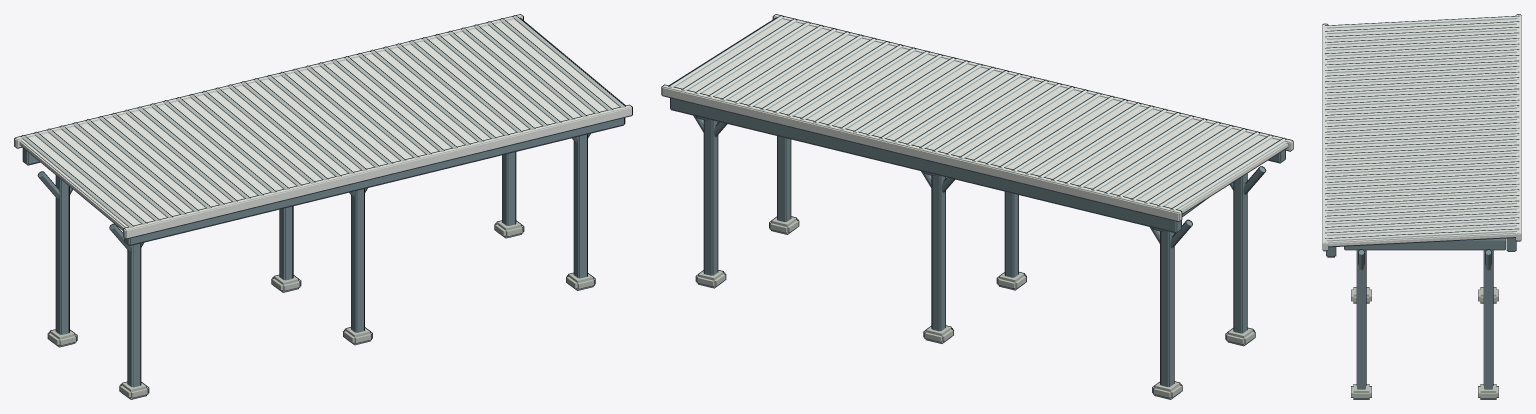
Rendered from Platform_Canopy.fbx.
3 renders of one model, left to right at view 1: azimuth 30°, elevation 25°; view 2: azimuth 150°, elevation 25°; view 3: azimuth 270°, elevation 25°, orthographic. The views are drawn at different scales.
Parts seen in each view (by area): view 1: Platform_Canopy_Mesh, NPR_Outline_Platform_Canopy_Mesh; view 2: Platform_Canopy_Mesh, NPR_Outline_Platform_Canopy_Mesh; view 3: Platform_Canopy_Mesh, NPR_Outline_Platform_Canopy_Mesh.
Boxes of the visible parts, x1,y1,x2,y2 form: Platform_Canopy_Mesh: [14, 14, 631, 399]; NPR_Outline_Platform_Canopy_Mesh: [14, 14, 632, 399]; Platform_Canopy_Mesh: [662, 15, 1292, 398]; NPR_Outline_Platform_Canopy_Mesh: [661, 14, 1293, 399]; Platform_Canopy_Mesh: [1322, 14, 1521, 399]; NPR_Outline_Platform_Canopy_Mesh: [1322, 14, 1521, 399].
Size of the model in its own units: 565 by 213 by 216.
